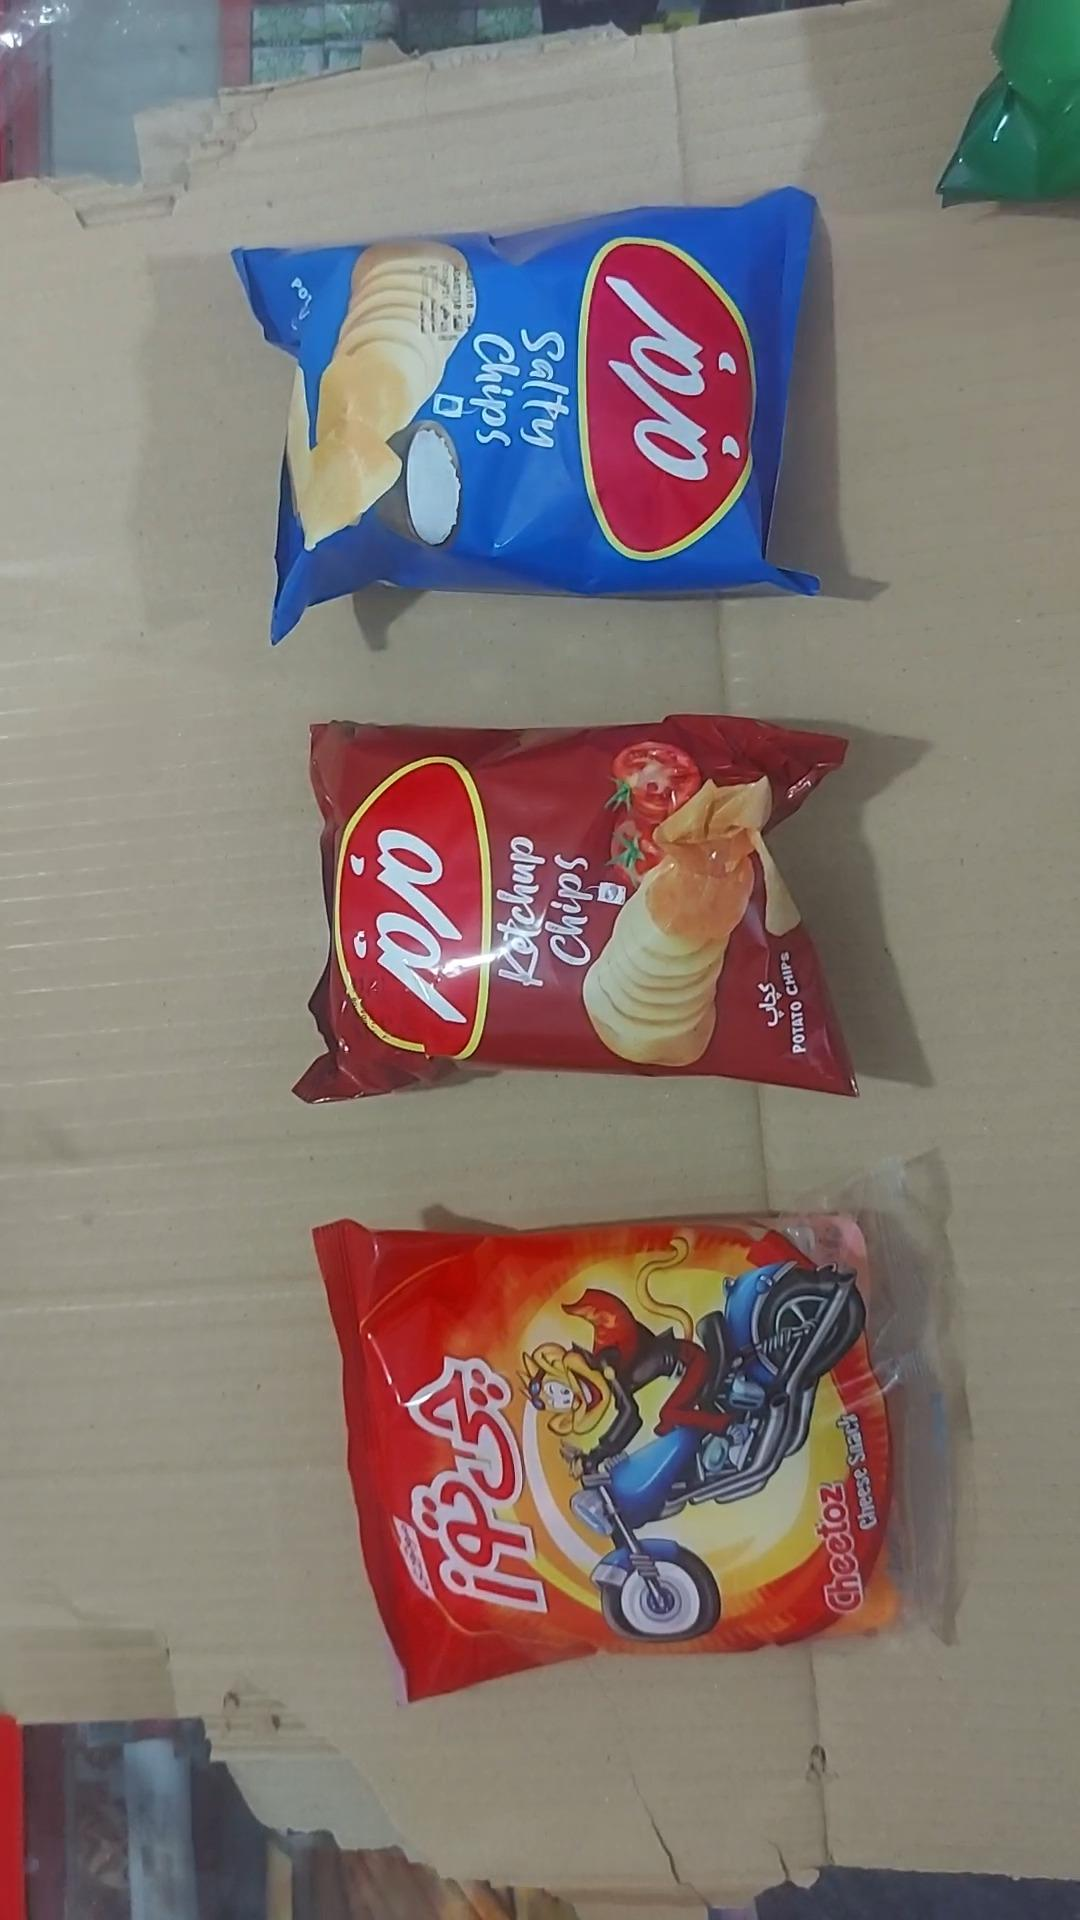Cheetoz snack 30g: (311, 1158, 971, 1713)
Maz Maz ketchup chips: (294, 715, 856, 1108)
Maz Maz salty chips: (232, 191, 818, 647)
